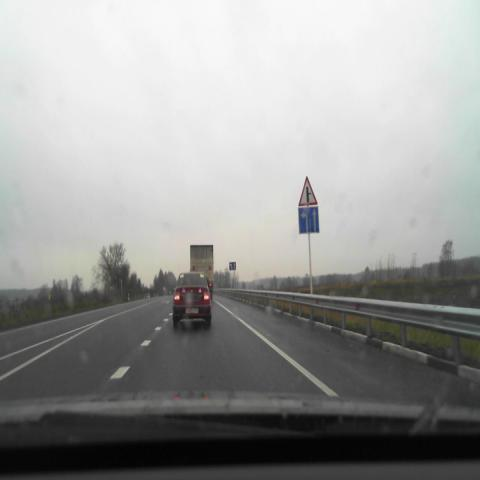2_3_2: (299, 176, 318, 206)
5_15_2_2: (298, 206, 319, 234)
